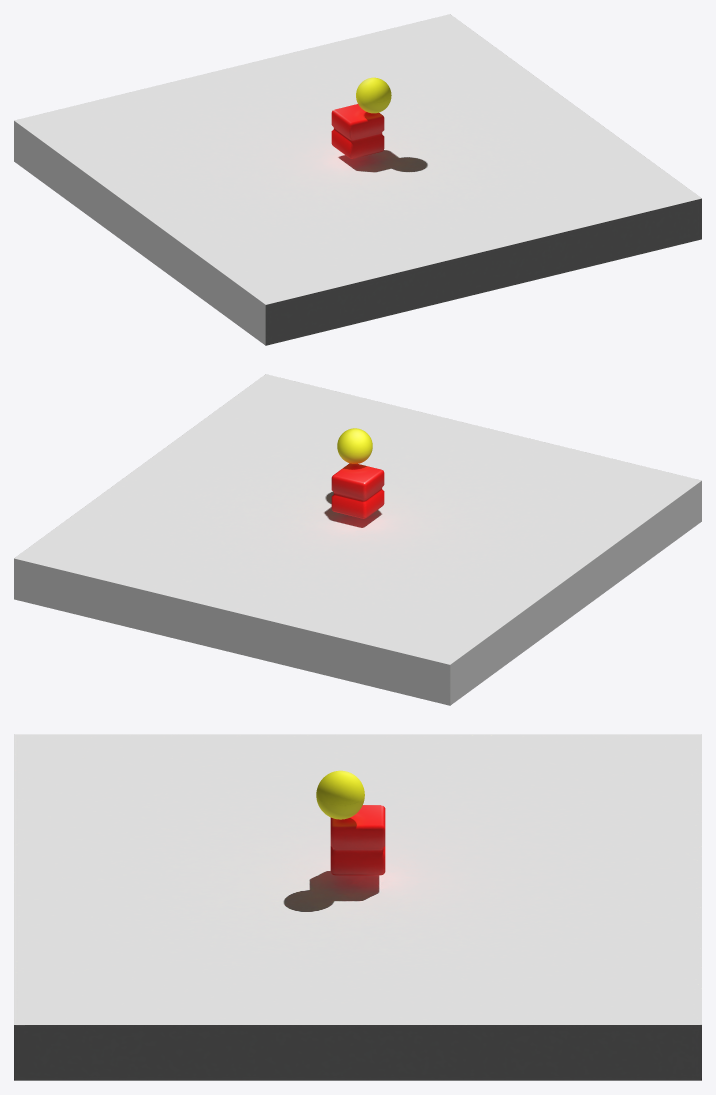
Rendered from baked.glb.
3 views of the same model, one above another, from view 1: azimuth 30°, elevation 25°; view 2: azimuth 150°, elevation 25°; view 3: azimuth 270°, elevation 25° (orthographic). The views are drawn at different scales.
Visible parts, largest first — view 1: Plane, Cube, Sphere; view 2: Plane, Cube, Sphere; view 3: Plane, Cube, Sphere.
Part boxes in pixels (box(x1,y1,x2,y2)): Plane: box(14, 14, 701, 345); Cube: box(331, 104, 384, 158); Sphere: box(356, 77, 391, 113); Plane: box(14, 374, 701, 705); Cube: box(331, 463, 384, 518); Sphere: box(337, 428, 372, 463); Plane: box(14, 734, 701, 1080); Cube: box(330, 805, 385, 875); Sphere: box(316, 770, 364, 819).
Size of the model in its own units: 6.26 by 1.69 by 6.26.
Materials: 3 (3 with a texture image).
